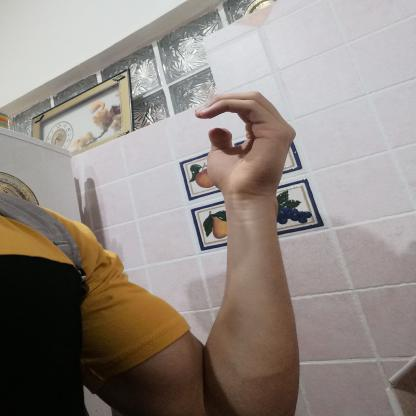JEEM: (178, 82, 304, 204)
